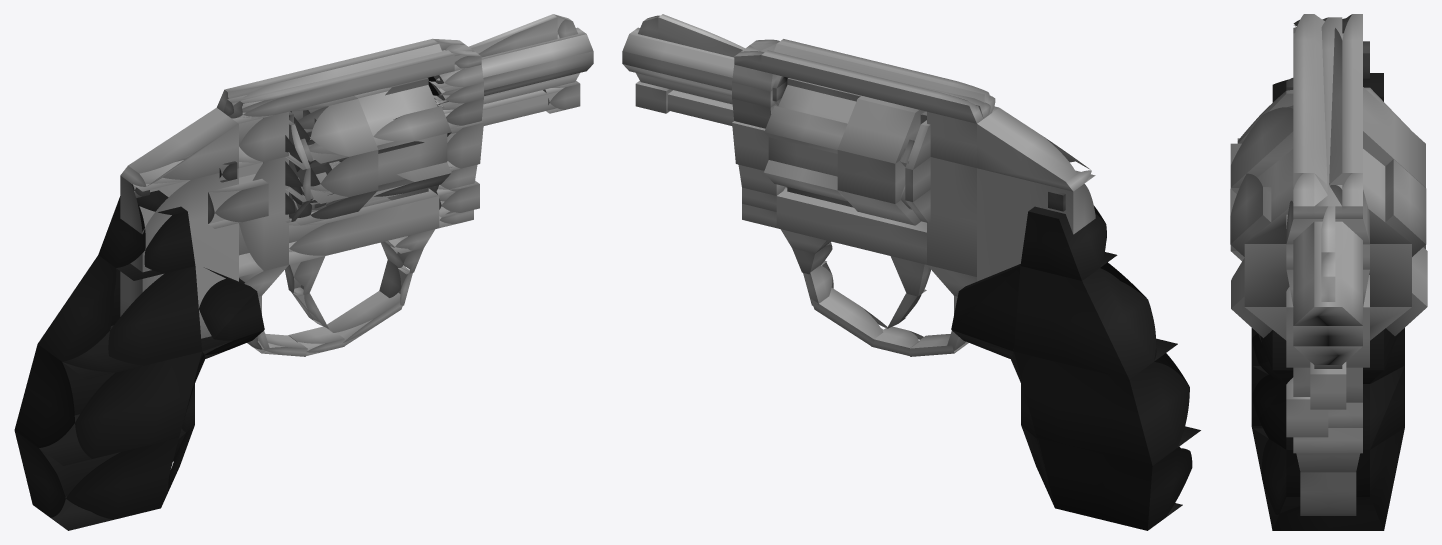
The picture shows the model from 3 angles, left to right: view 1: azimuth 30°, elevation 25°; view 2: azimuth 150°, elevation 25°; view 3: azimuth 270°, elevation 25°; orthographic projection. The views are drawn at different scales.
Visible parts, largest first — view 1: gunModel40, gunModel39, gunModel41, gunModel0, gunModel6, gunModel1, gunModel42, gunModel11, gunModel2, gunModel10, gunModel43, revolverBarrelModel3 (+27 smaller); view 2: gunModel40, gunModel39, gunModel41, gunModel0, gunModel6, gunModel1, gunModel2, gunModel10, gunModel42, gunModel43, revolverBarrelModel3, gunModel11 (+28 smaller); view 3: gunModel47, revolverBarrelModel3, gunModel8, revolverBarrelModel7, gunModel11, gunModel10, gunModel46, revolverBarrelModel8, revolverBarrelModel5, revolverBarrelModel4, gunModel32, gunModel12 (+29 smaller).
Part boxes in pixels (<box>): gunModel40: <box>14,325,201,465</box>; gunModel39: <box>38,255,201,379</box>; gunModel41: <box>14,414,178,530</box>; gunModel0: <box>120,160,238,338</box>; gunModel6: <box>289,188,439,264</box>; gunModel1: <box>120,107,238,191</box>; gunModel42: <box>98,190,195,280</box>; gunModel11: <box>228,50,454,123</box>; gunModel2: <box>239,146,288,276</box>; gunModel10: <box>217,39,441,118</box>; gunModel43: <box>199,267,264,351</box>; revolverBarrelModel3: <box>290,96,378,163</box>; gunModel40: <box>1014,348,1200,465</box>; gunModel39: <box>1014,262,1177,379</box>; gunModel41: <box>1037,438,1192,530</box>; gunModel0: <box>977,168,1095,281</box>; gunModel6: <box>776,188,926,264</box>; gunModel1: <box>977,107,1095,191</box>; gunModel2: <box>927,157,976,276</box>; gunModel10: <box>761,50,992,123</box>; gunModel42: <box>1020,206,1117,280</box>; gunModel43: <box>951,264,1020,351</box>; revolverBarrelModel3: <box>837,96,924,163</box>; gunModel11: <box>774,39,998,115</box>; gunModel47: <box>1262,428,1404,530</box>; revolverBarrelModel3: <box>1230,87,1425,187</box>; gunModel8: <box>1293,221,1362,325</box>; revolverBarrelModel7: <box>1244,244,1411,306</box>; gunModel11: <box>1293,14,1327,189</box>; gunModel10: <box>1329,14,1362,188</box>; gunModel46: <box>1252,366,1404,449</box>; revolverBarrelModel8: <box>1245,149,1411,243</box>; revolverBarrelModel5: <box>1385,159,1426,256</box>; revolverBarrelModel4: <box>1230,173,1271,256</box>; gunModel32: <box>1300,472,1356,512</box>; gunModel12: <box>1314,17,1342,218</box>.
Bounding box in the file's own units: 7.05 × 4.7 × 1.41.
